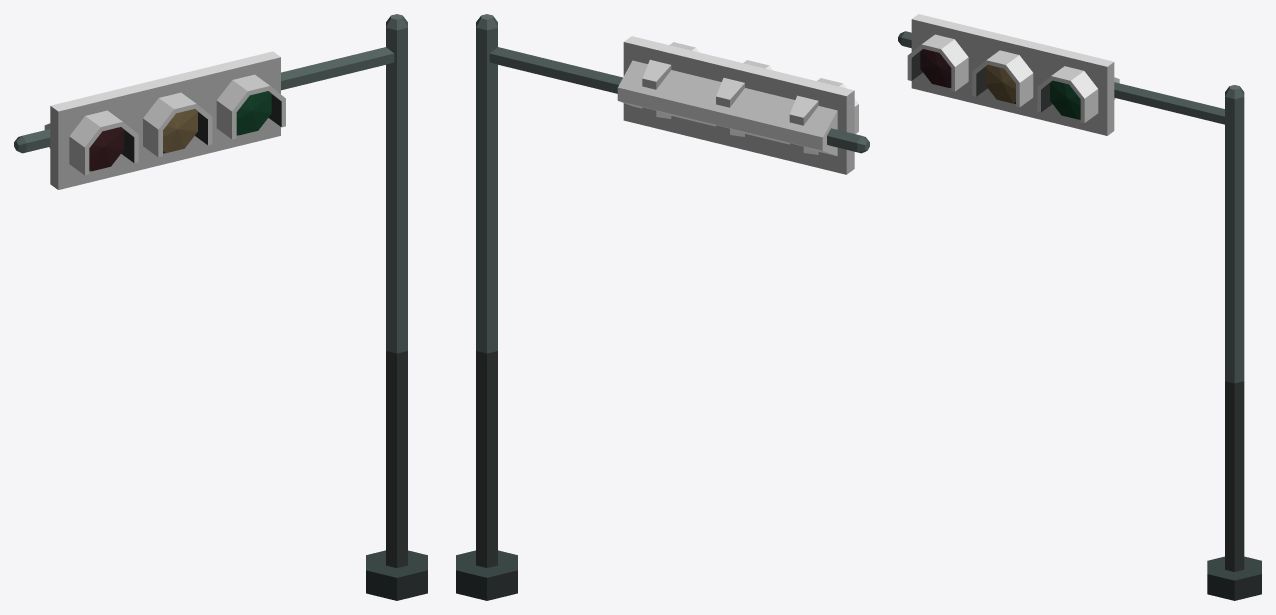
The model's file is TB_CITY_Prop_TrafficLight_VSet_White.FBX.
3 renders of one model, left to right at view 1: azimuth 30°, elevation 25°; view 2: azimuth 150°, elevation 25°; view 3: azimuth 330°, elevation 25°, orthographic. The views are drawn at different scales.
Parts seen in each view (by area): view 1: TB_CITY_Prop_TrafficLight_VSet_White; view 2: TB_CITY_Prop_TrafficLight_VSet_White; view 3: TB_CITY_Prop_TrafficLight_VSet_White.
Boxes of the visible parts, <box> form: TB_CITY_Prop_TrafficLight_VSet_White: <box>14,14,427,600</box>; TB_CITY_Prop_TrafficLight_VSet_White: <box>456,14,869,600</box>; TB_CITY_Prop_TrafficLight_VSet_White: <box>898,14,1261,600</box>.
Bounding box in the file's own units: 5.62 × 7.45 × 1.07.
